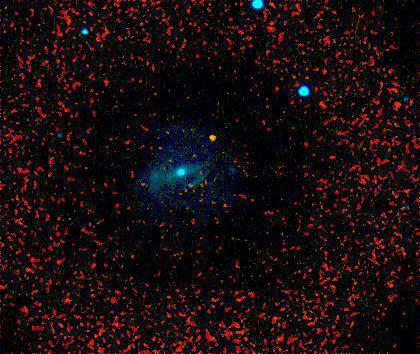star: (197, 122, 227, 152)
